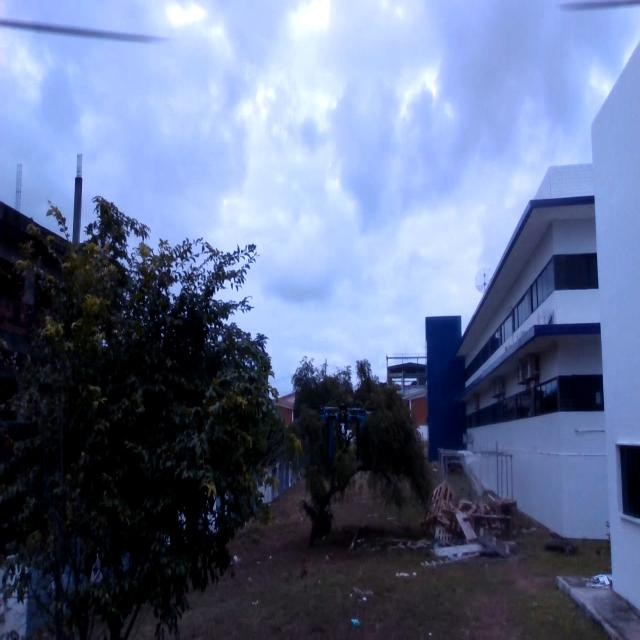-uav-: (312, 396, 386, 468)
